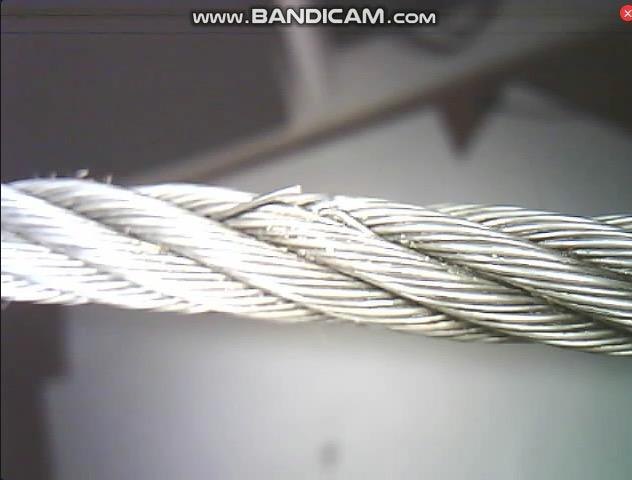break: (250, 179, 361, 230)
